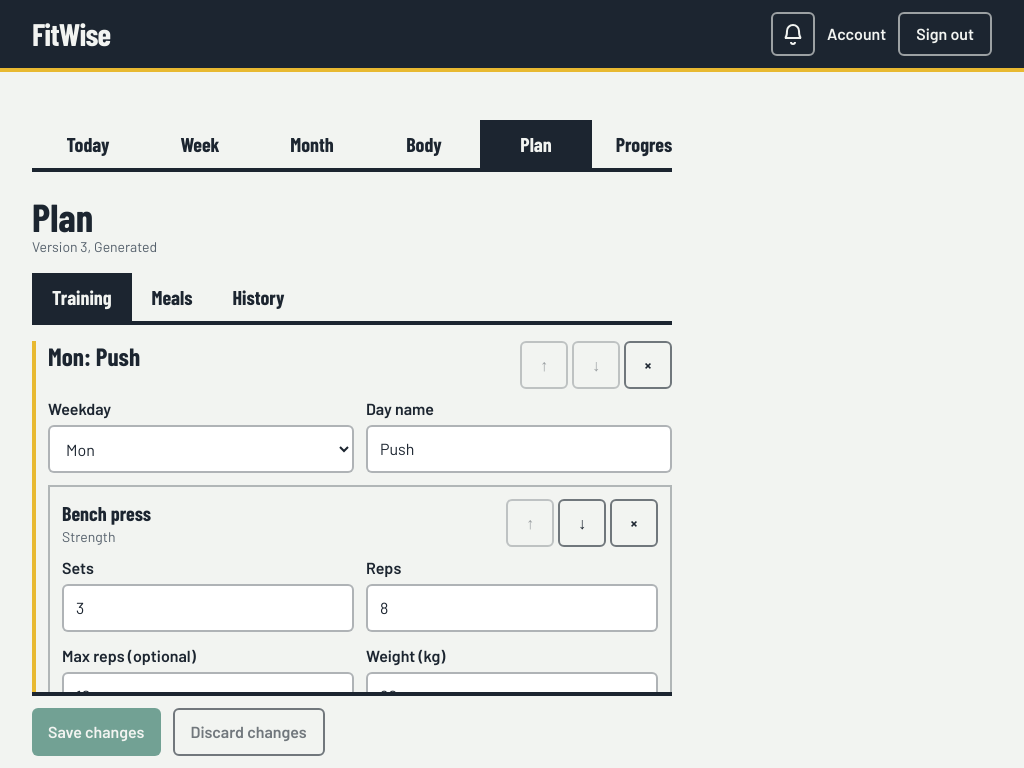
it: Plan editor: training › shows each 422 invalid_plan message next to its field
The image size is (1024, 768).
Expected: the heading "Plan" is shown, left=32, top=193, right=93, bottom=240
Expected: the heading "Mon: Push" is shown, left=48, top=341, right=140, bottom=371
Replace the text in the field labelled "Sets" with "4": (208, 608) left=62, top=584, right=354, bottom=632
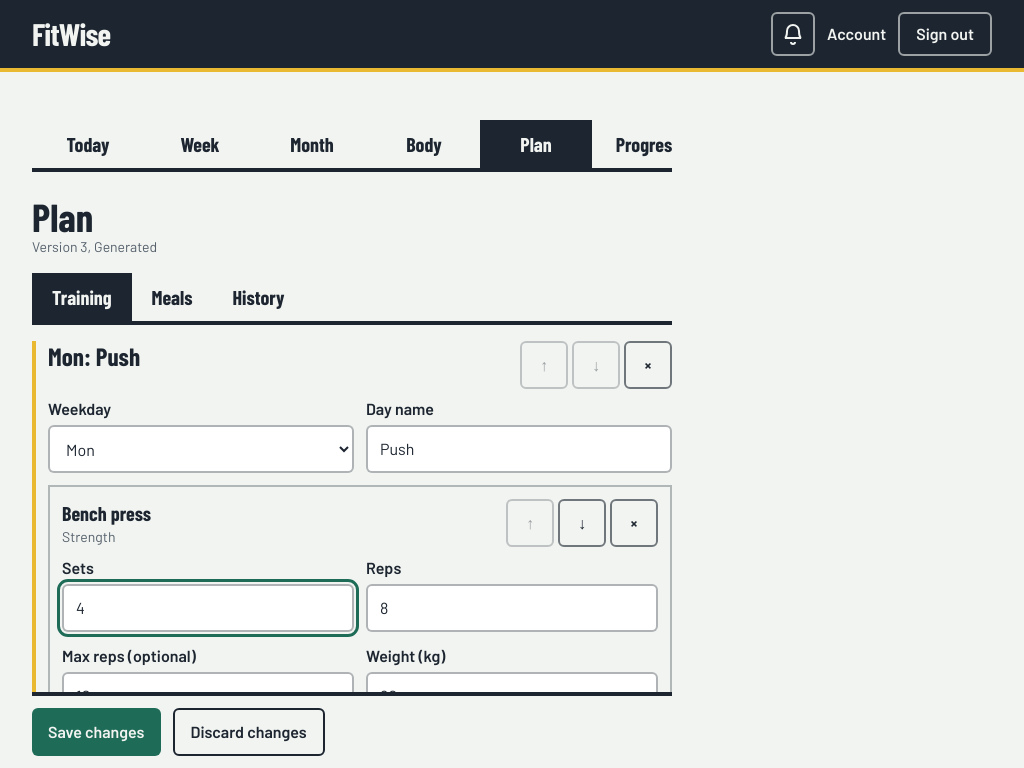
Click the button "Save changes": (96, 732) left=32, top=708, right=160, bottom=756
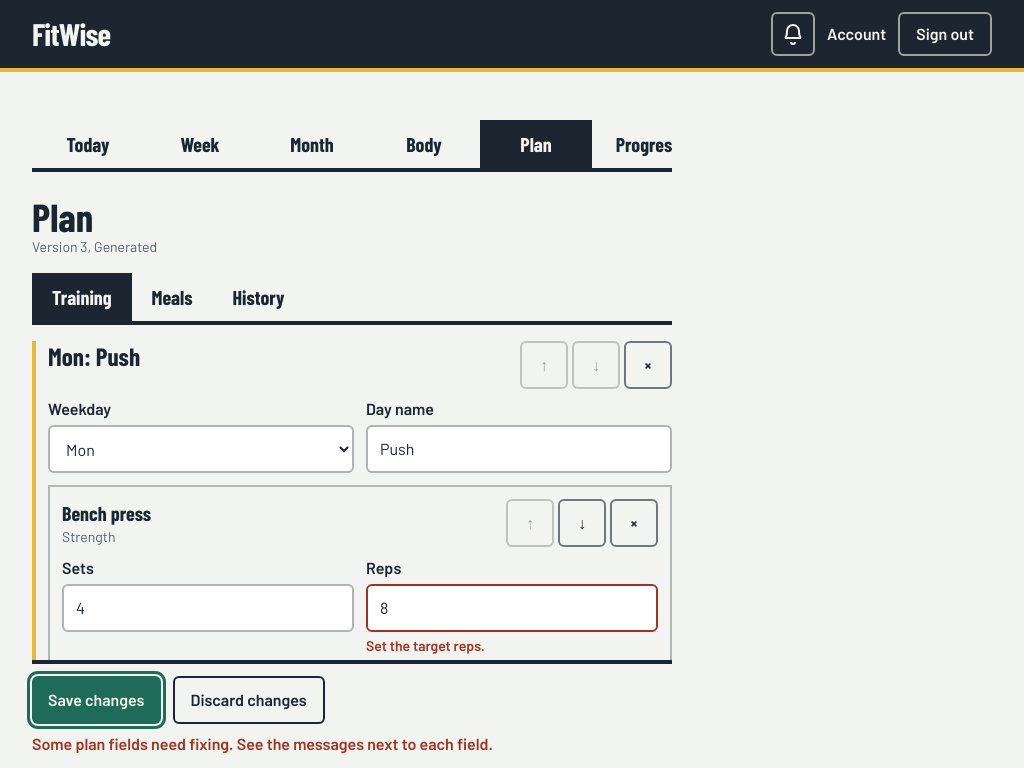
Result: the message shows "Some plan fields need fixing" at left=32, top=734, right=493, bottom=753
